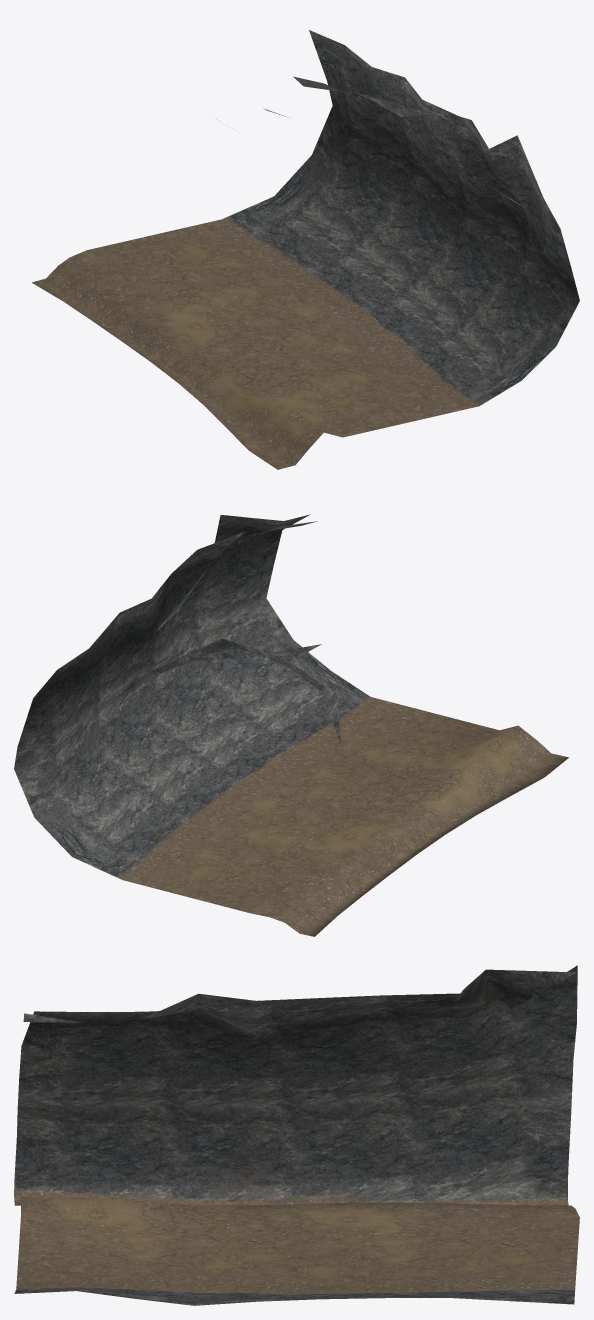
The model's file is TunnelA9.glb.
3 renders of one model, top to bottom at view 1: azimuth 30°, elevation 25°; view 2: azimuth 150°, elevation 25°; view 3: azimuth 270°, elevation 25°, orthographic. The views are drawn at different scales.
Parts seen in each view (by area): view 1: TunnelA9; view 2: TunnelA9; view 3: TunnelA9.
Part boxes in pixels (x1,y1,x2,y2): TunnelA9: (32, 30, 579, 469); TunnelA9: (14, 514, 569, 936); TunnelA9: (14, 965, 579, 1305).
Size of the model in its own units: 4.27 by 2.87 by 5.82.
1 material, 1 textured.
